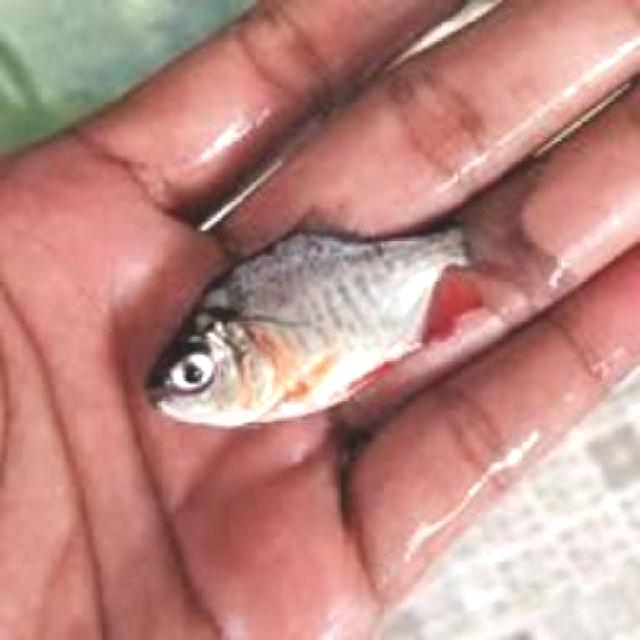ikan-pacu: (147, 201, 506, 427)
